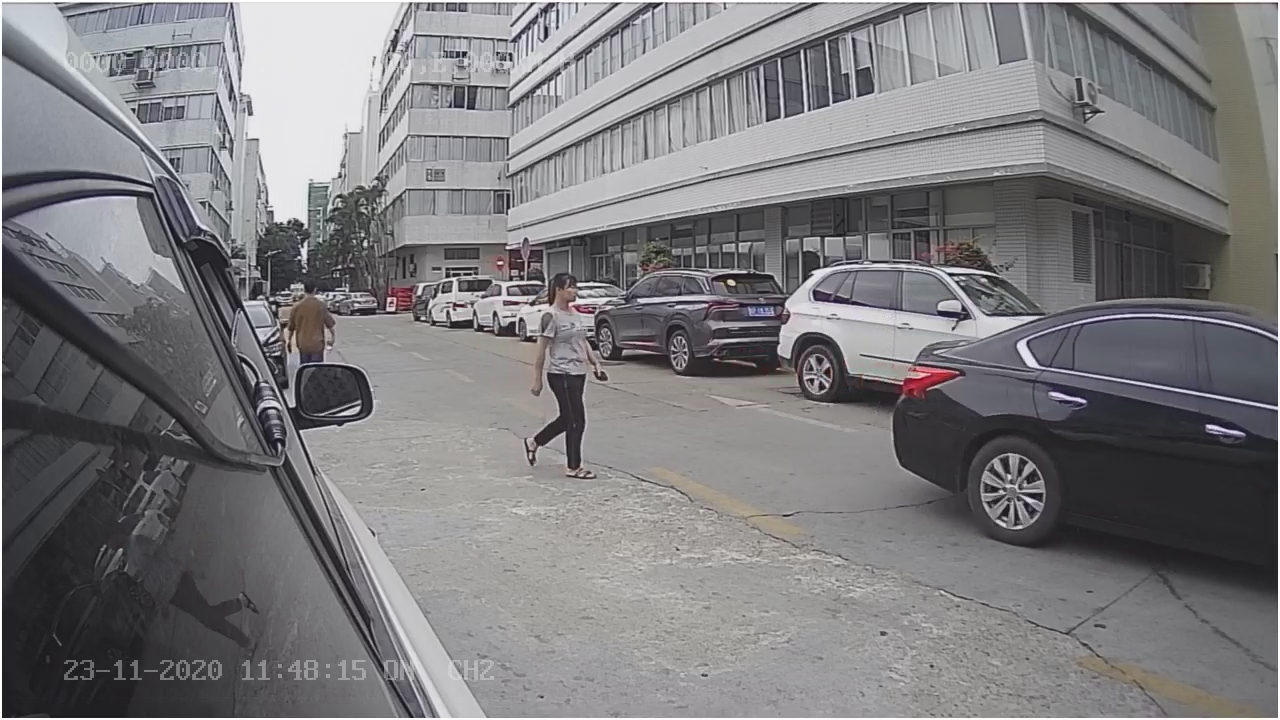person: (522, 268, 610, 484)
